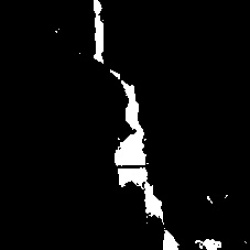crack: (93, 3, 223, 249), (204, 194, 214, 203)
